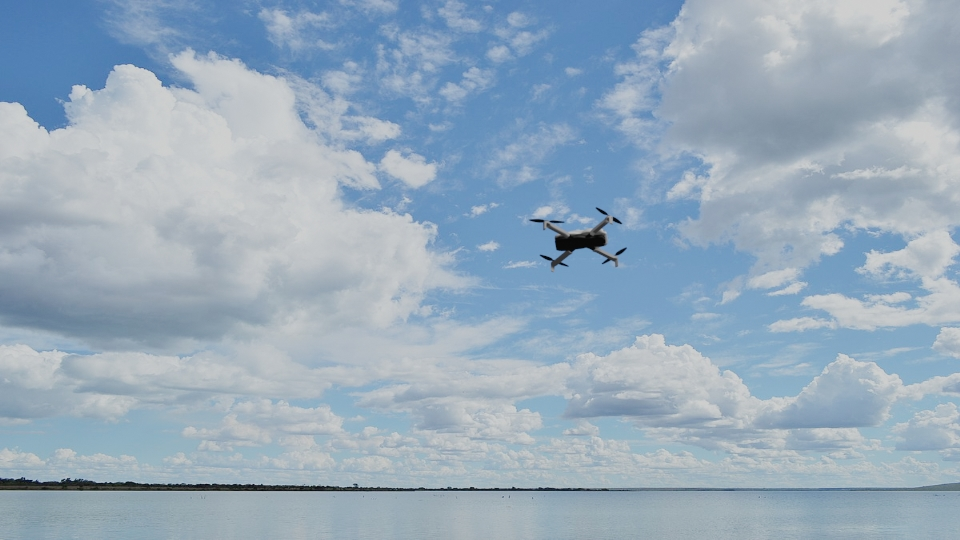drone: (528, 206, 625, 274)
